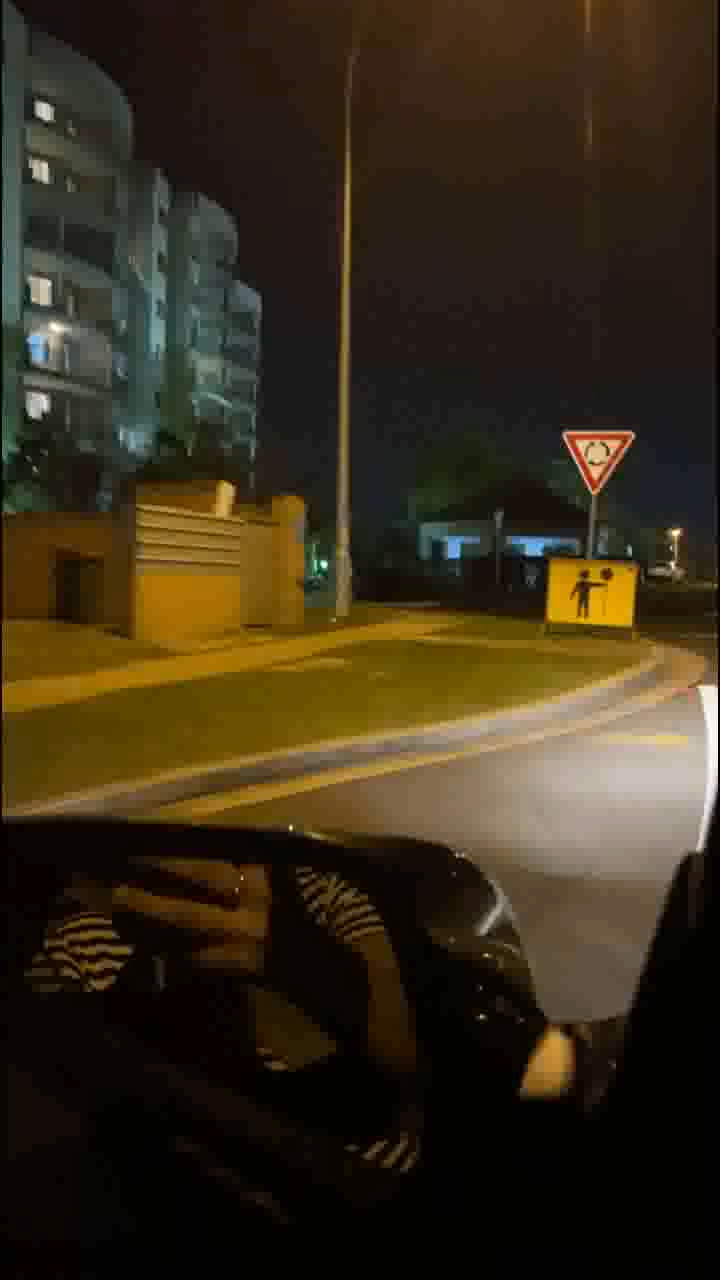prepare to stop board: (542, 559, 640, 633)
